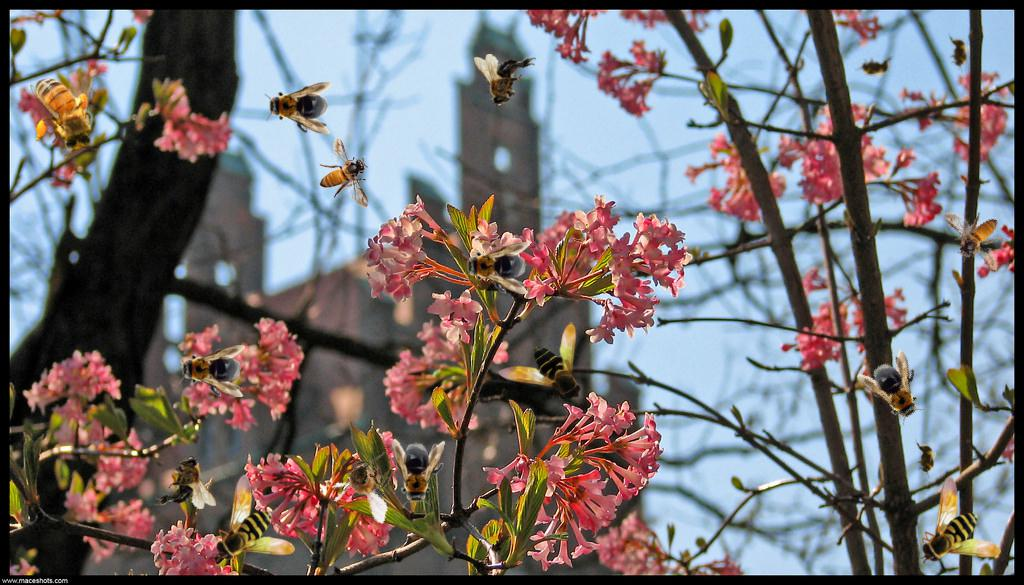Bee: (919, 476, 1001, 564), (213, 474, 295, 562), (496, 322, 584, 404), (856, 347, 938, 433), (29, 63, 101, 160), (325, 439, 404, 525), (942, 197, 1014, 282), (391, 438, 445, 508), (319, 137, 369, 208), (462, 242, 530, 294), (177, 345, 245, 397), (264, 82, 332, 134), (154, 456, 216, 509), (474, 54, 536, 107), (855, 56, 895, 78), (948, 33, 970, 73), (915, 439, 937, 479)
